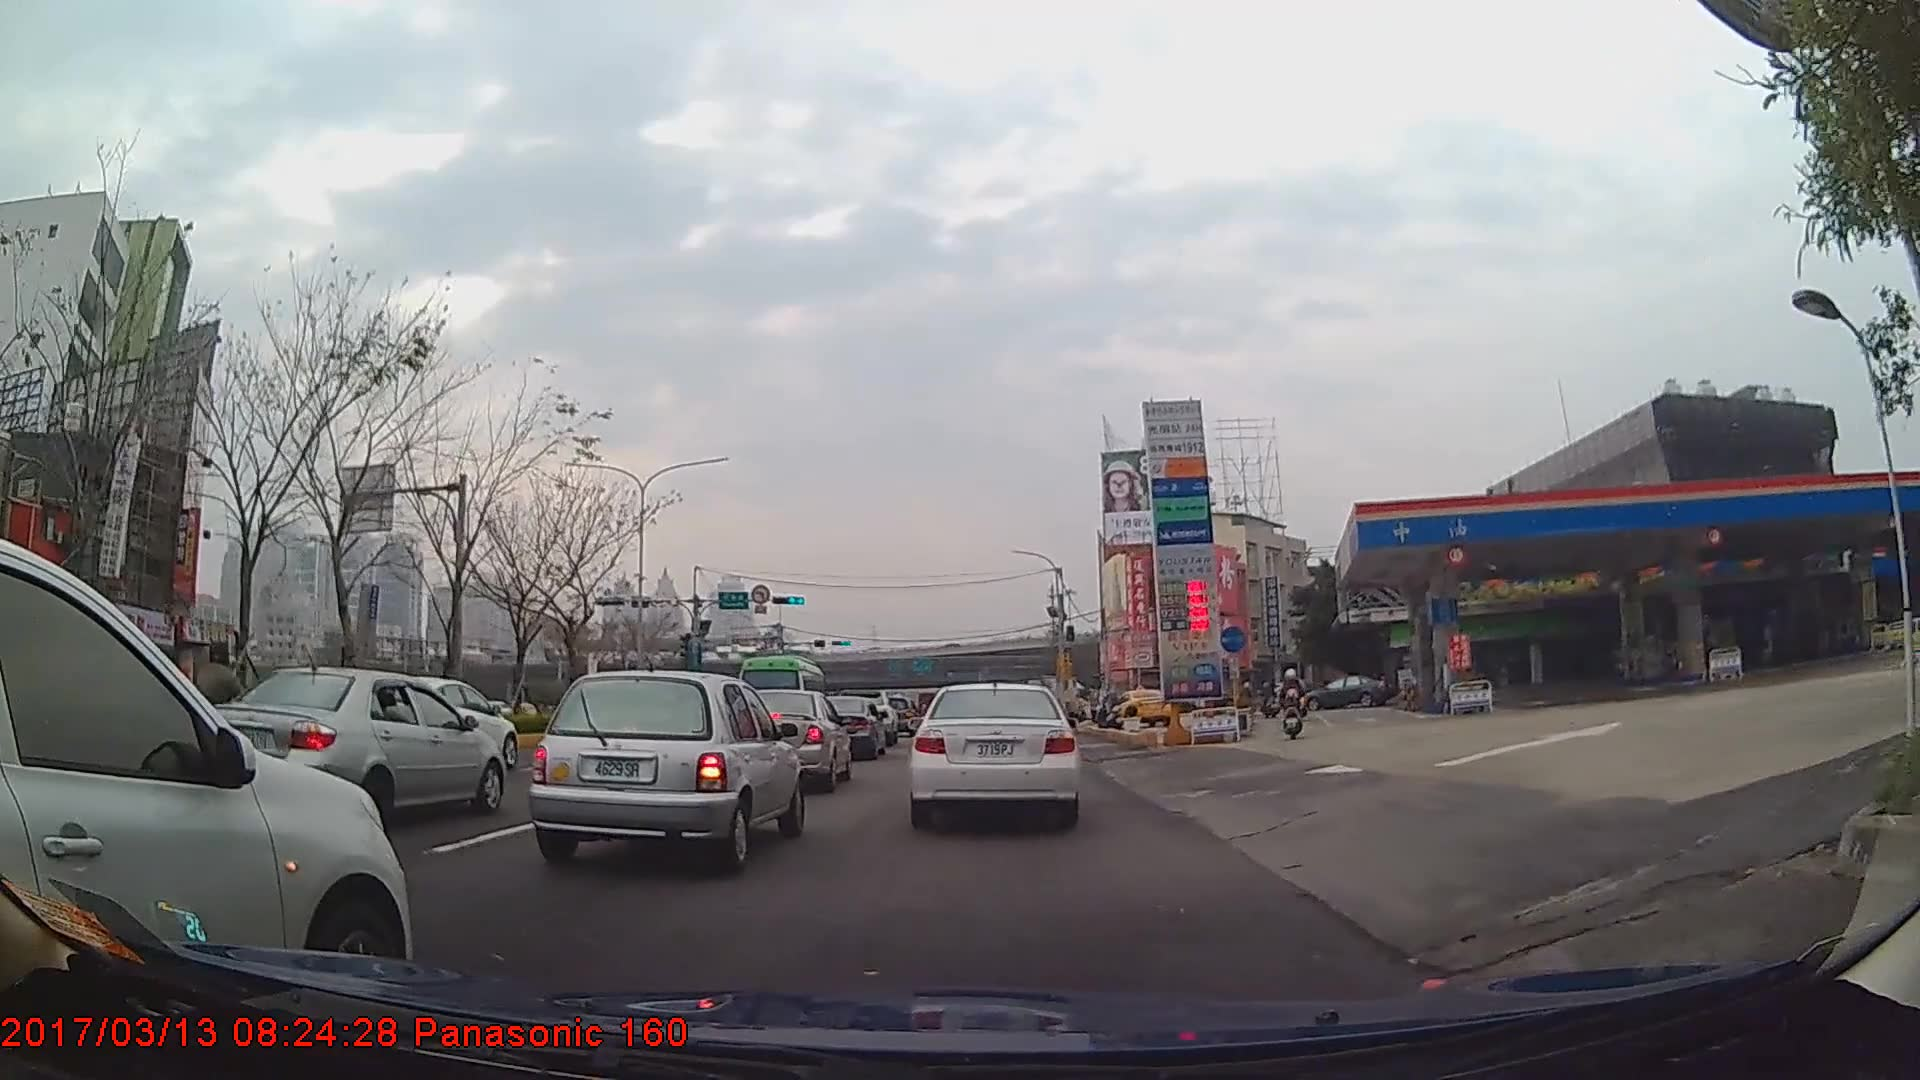rider: (195, 638, 244, 770), (1282, 667, 1303, 737), (1283, 670, 1306, 723)
vehicle: (0, 539, 406, 1015), (526, 668, 804, 873), (202, 663, 502, 818), (909, 678, 1080, 830), (724, 685, 853, 795), (731, 650, 826, 727), (806, 695, 886, 758), (1011, 676, 1096, 724), (1295, 673, 1390, 710), (1113, 686, 1172, 726)
